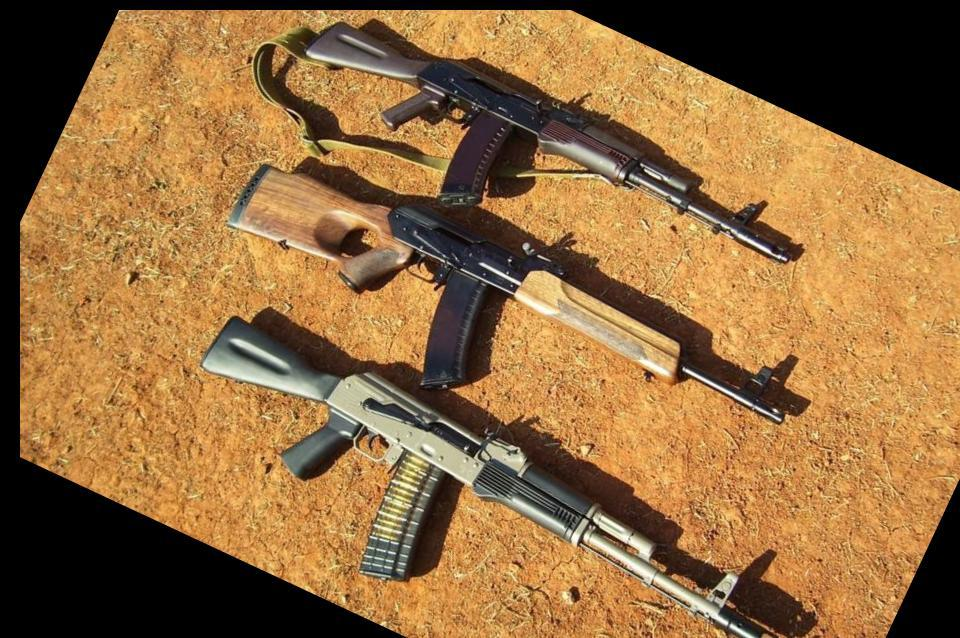larga: (199, 314, 771, 638), (224, 161, 789, 425), (302, 19, 796, 266)
